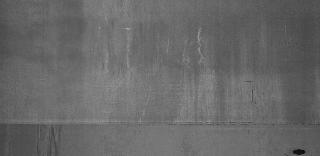punching hole: (292, 148, 306, 156)
welding line: (2, 116, 318, 132)
